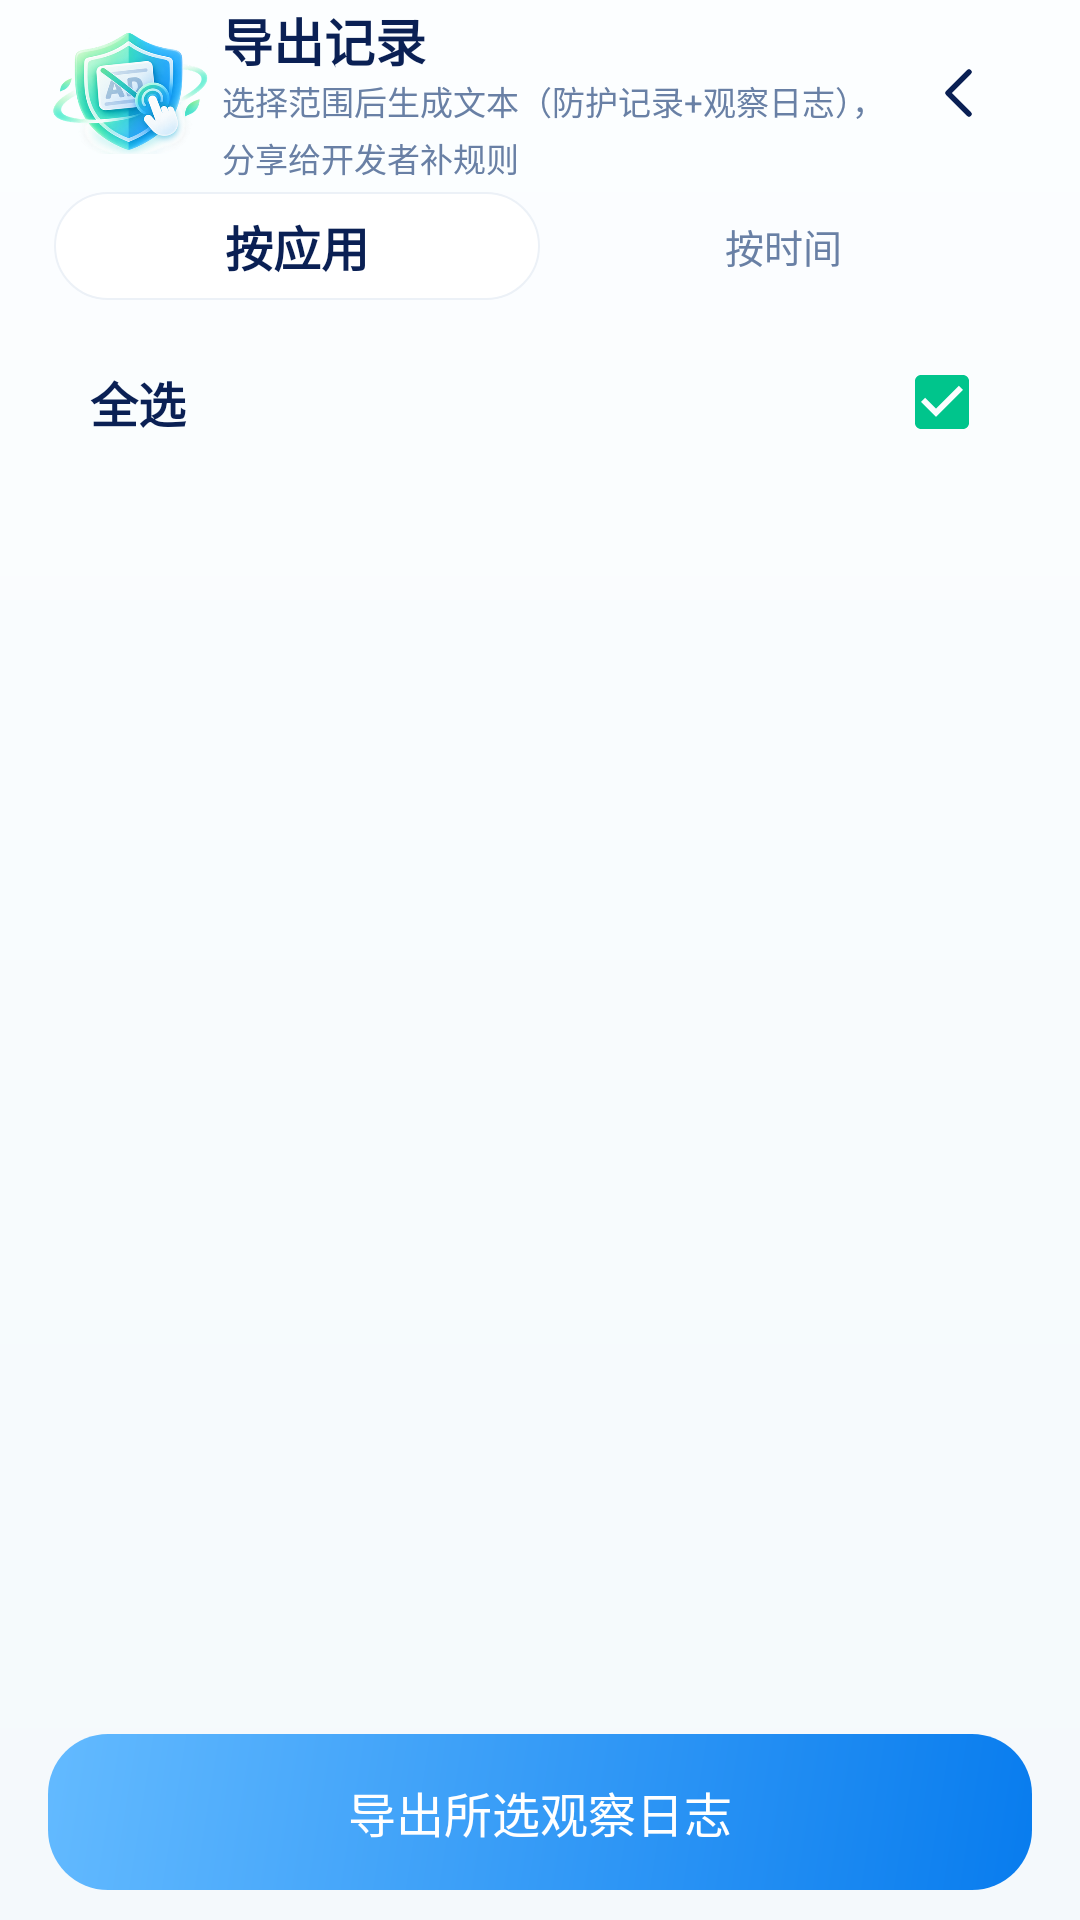

Icon bounding boxes for this 1080x1920 phone screenshot, format (x1, y1, x2, y2):
轻护标志: (53, 33, 207, 152)
返回: (945, 69, 972, 117)
